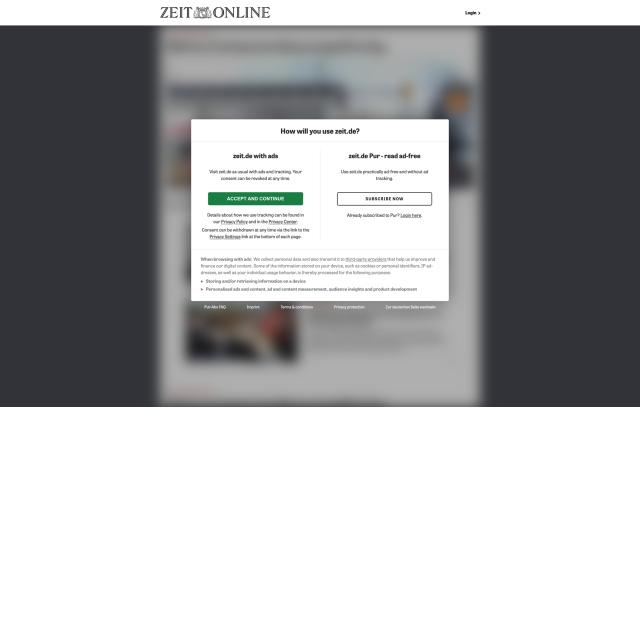footer: (192, 301, 449, 311)
logo: (158, 2, 272, 21)
